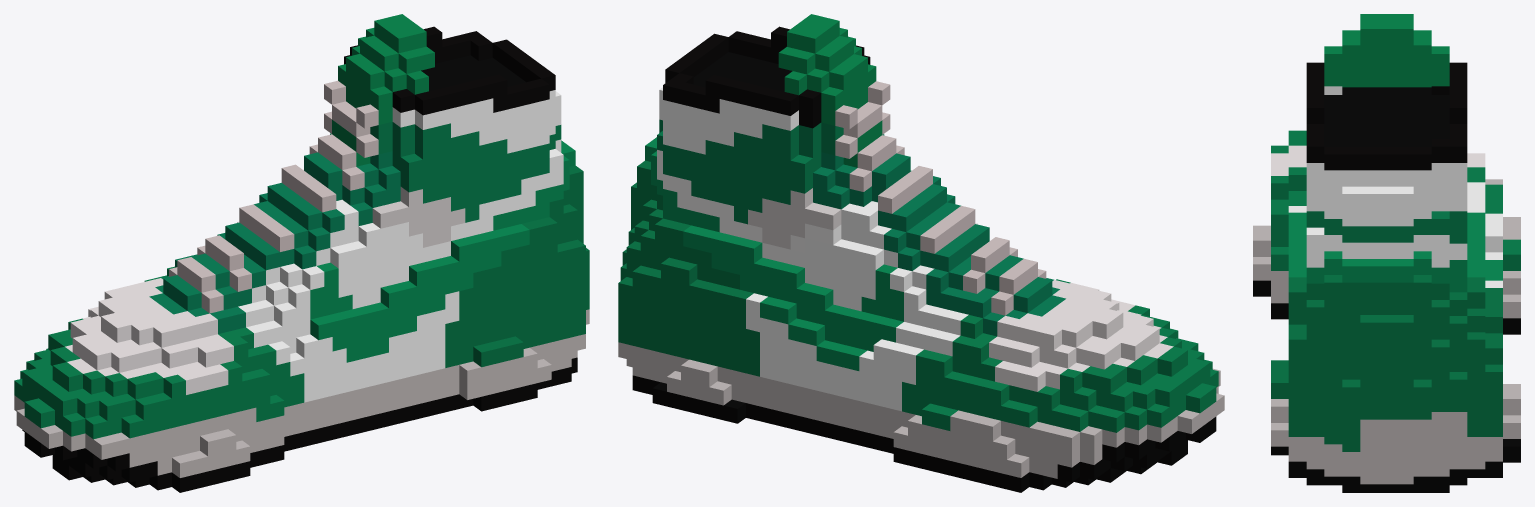
The model's file is Lucky Green.fbx.
3 views of the same model, side by side, from view 1: azimuth 30°, elevation 25°; view 2: azimuth 150°, elevation 25°; view 3: azimuth 270°, elevation 25° (orthographic). The views are drawn at different scales.
Parts seen in each view (by area): view 1: Untitled; view 2: Untitled; view 3: Untitled.
Part boxes in pixels (x1,y1,x2,y2): Untitled: [14, 14, 589, 492]; Untitled: [618, 14, 1224, 492]; Untitled: [1253, 14, 1520, 492].
Size of the model in its own units: 390 by 240 by 150.
